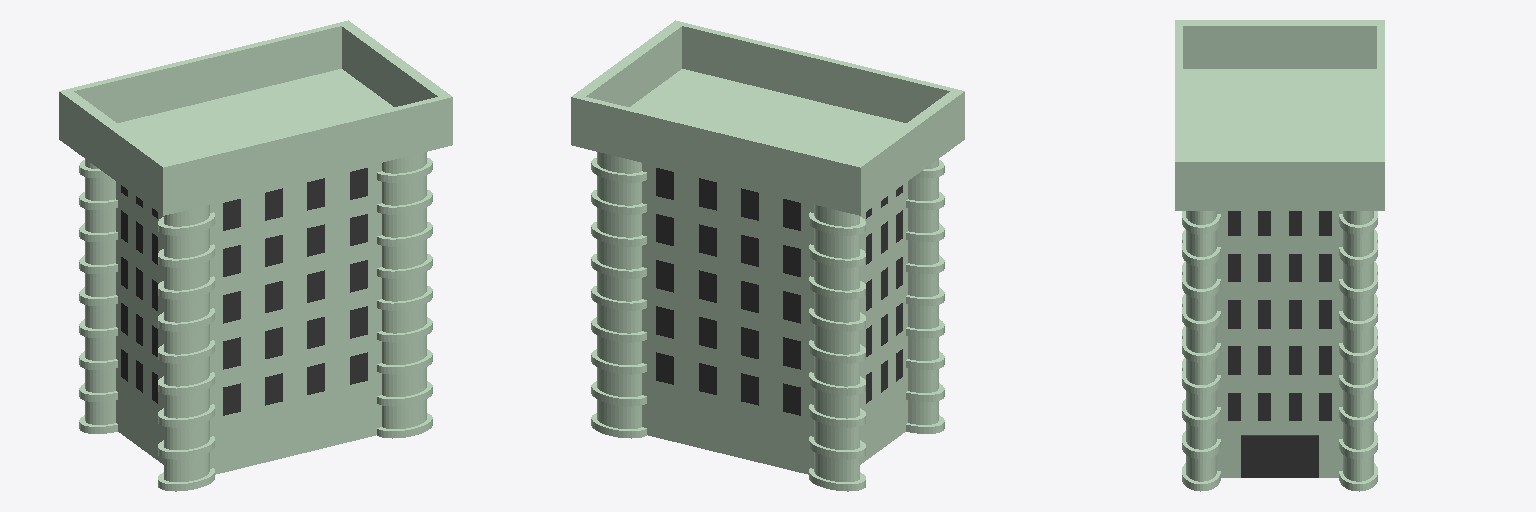
robot.urdf — building_3:
<?xml version="1.0"?> 

<!-- Copyright 2023 [author] -->

<!-- Licensed under the Apache License, Version 2.0 (the "License"); -->
<!-- you may not use this file except in compliance with the License. -->
<!-- You may obtain a copy of the License at -->

<!--     http://www.apache.org/licenses/LICENSE-2.0 -->

<!-- Unless required by applicable law or agreed to in writing, software -->
<!-- distributed under the License is distributed on an "AS IS" BASIS, -->
<!-- WITHOUT WARRANTIES OR CONDITIONS OF ANY KIND, either express or implied. -->
<!-- See the License for the specific language governing permissions and -->
<!-- limitations under the License. -->

<!-- Authors: [author], [author] -->

<robot name="building_3">
    <link name="building_3">
        <visual>
            <origin xyz="0 0 0" rpy="0 0 0" />
            <geometry>
                <mesh filename='meshes/building_3.stl' scale='0.08 0.05 0.06'/>
            </geometry>
            <material name="greyblue">
                <color rgba="0.8 0.9 0.8 1"/>
            </material>
        </visual>
        <collision>
            <origin xyz="0 0 0" rpy="0 0 0" />
            <geometry>
                <mesh filename='meshes/building_3.stl' scale='0.08 0.05 0.06'/>
            </geometry>
        </collision>
        <inertial>
            <mass value="10"/>
            <inertia ixx="0.4" ixy="0.0" ixz="0.0" iyy="0.4" iyz="0.0" izz="0.2" />
        </inertial>
    </link>
    <link name="windows">
        <visual>
            <origin xyz="0 0 0" rpy="0 0 0" />
            <geometry>
                <mesh filename='meshes/building_3windows.stl' scale='0.08 0.05 0.06'/>
            </geometry>
            <material name="black">
                <color rgba="0.3 0.3 0.3 1"/>
            </material>
        </visual>
        <collision>
            <origin xyz="0 0 0" rpy="0 0 0" />
            <geometry>
                <mesh filename='meshes/building_3windows.stl' scale='0.08 0.05 0.06'/>
            </geometry>
        </collision>
        <inertial>
            <mass value="10"/>
            <inertia ixx="0.4" ixy="0.0" ixz="0.0" iyy="0.4" iyz="0.0" izz="0.2" />
        </inertial>
    </link>
    <joint name="window" type="fixed">
        <origin rpy="0 0 0" xyz="0 0 0"/>
        <parent link="building_3"/>
        <child link="windows"/>
    </joint>
    <link name="doors">
        <visual>
            <origin xyz="0 0 0" rpy="0 0 0" />
            <geometry>
                <mesh filename='meshes/building_3door.stl' scale='0.05 0.08 0.06'/>
            </geometry>
            <material name="black">
                <color rgba="0.3 0.3 0.3 1"/>
            </material>
        </visual>
        <collision>
            <origin xyz="0 0 0" rpy="0 0 0" />
            <geometry>
                <mesh filename='meshes/building_3door.stl' scale='0.05 0.08 0.06'/>
            </geometry>
        </collision>
        <inertial>
            <mass value="10"/>
            <inertia ixx="0.4" ixy="0.0" ixz="0.0" iyy="0.4" iyz="0.0" izz="0.2" />
        </inertial>
    </link>
    <joint name="door" type="fixed">
        <origin rpy="0 0 1.571" xyz="0.005 0 0"/>
        <parent link="building_3"/>
        <child link="doors"/>
    </joint>
</robot>

--- What the picture shows (computed from the rendered views, not written in the file) ---
3 views of the same robot in one strip: view 1: azimuth 30°, elevation 25°; view 2: azimuth 150°, elevation 25°; view 3: azimuth 270°, elevation 25° (orthographic).
Robot: building_3 — 3 links, 2 joints (2 fixed); root link building_3; default pose: every joint at zero.
Links seen in each view (by area): view 1: building_3, windows; view 2: building_3, windows; view 3: building_3, windows, doors.
Link boxes in pixels (bbox=[...]): building_3: bbox=[59, 20, 452, 491]; windows: bbox=[121, 168, 367, 415]; building_3: bbox=[571, 20, 964, 491]; windows: bbox=[656, 168, 902, 415]; building_3: bbox=[1175, 20, 1384, 491]; windows: bbox=[1228, 211, 1331, 420]; doors: bbox=[1241, 435, 1318, 477].
Size in the robot's own frame: 6.4 by 4 by 7.02 metres.
3 mesh visuals loaded from 3 distinct referenced files (3 binary STL).
